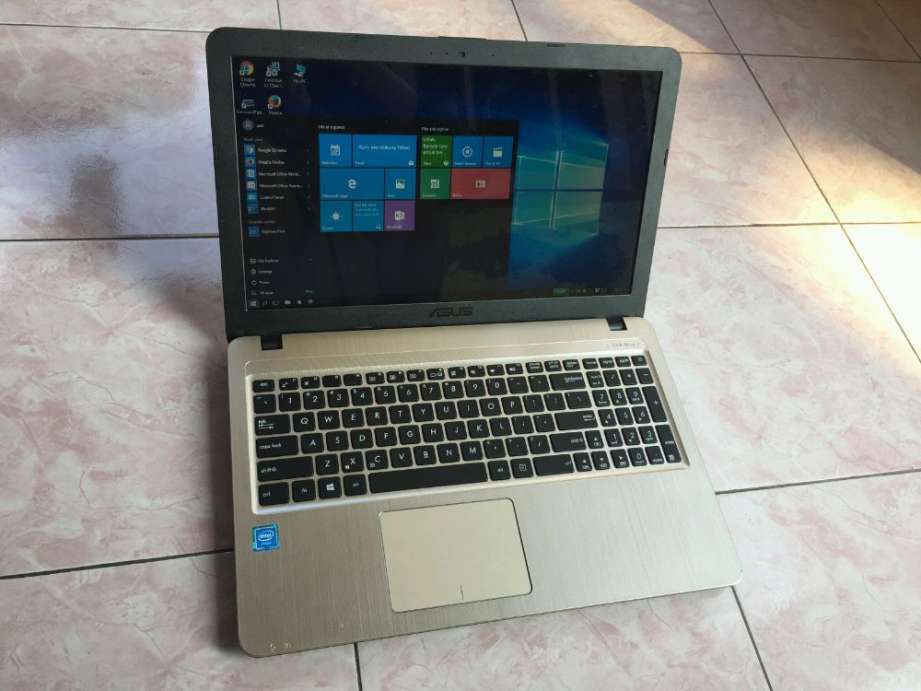Laptop: (196, 20, 760, 667)
